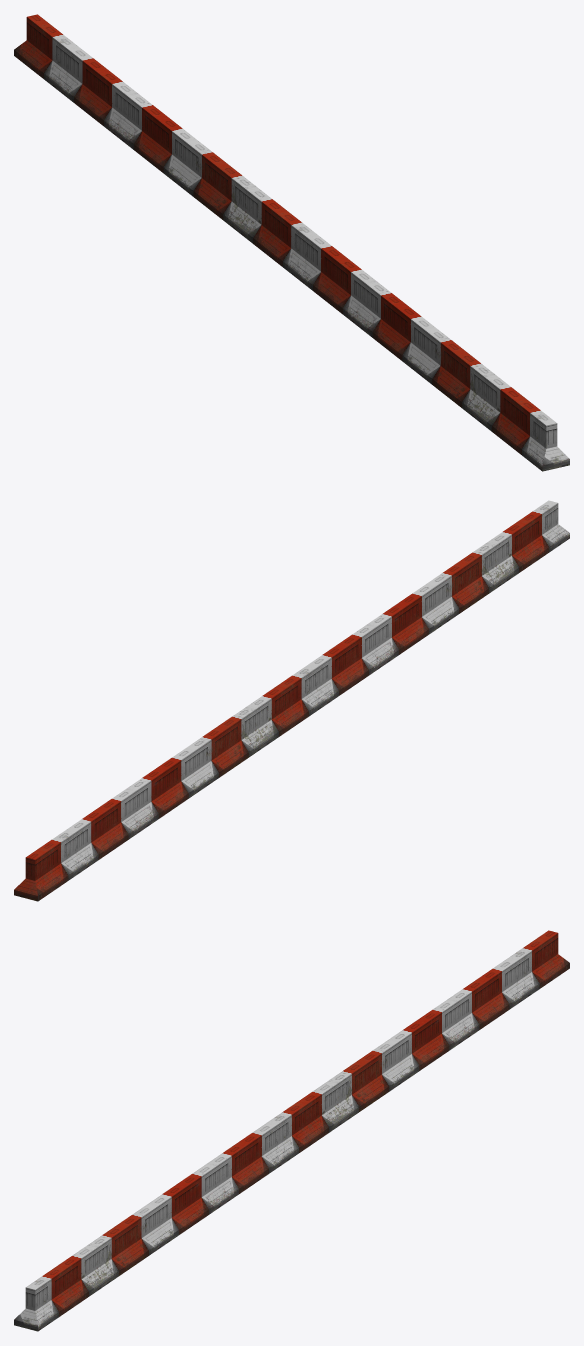
File: Blocks.fbx
The picture shows the model from 3 angles, top to bottom: view 1: azimuth 30°, elevation 25°; view 2: azimuth 150°, elevation 25°; view 3: azimuth 330°, elevation 25°; orthographic projection. The views are drawn at different scales.
Visible parts, largest first — view 1: polySurface1; view 2: polySurface1; view 3: polySurface1.
Boxes of the visible parts, <box> form: polySurface1: <box>14,14,569,471</box>; polySurface1: <box>14,500,569,901</box>; polySurface1: <box>14,930,569,1331</box>.
Bounding box in the file's own units: 0.4056 × 0.277 × 6.91.
